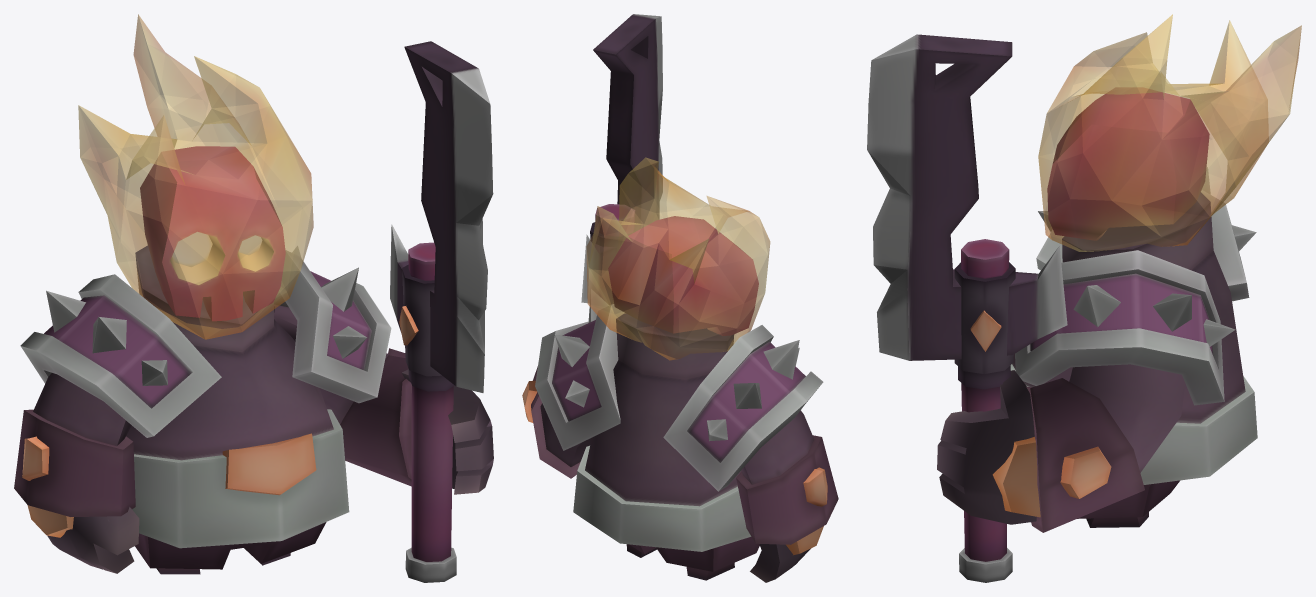
The model's file is Almost a Hero_Enemy.fbx.
The picture shows the model from 3 angles, left to right: view 1: azimuth 30°, elevation 25°; view 2: azimuth 150°, elevation 25°; view 3: azimuth 270°, elevation 25°; orthographic projection. The views are drawn at different scales.
Visible parts, largest first — view 1: Almost_a_Hero_Enemy; view 2: Almost_a_Hero_Enemy; view 3: Almost_a_Hero_Enemy.
Boxes of the visible parts, x1,y1,x2,y2 form: Almost_a_Hero_Enemy: [14, 14, 493, 582]; Almost_a_Hero_Enemy: [522, 14, 838, 582]; Almost_a_Hero_Enemy: [867, 14, 1301, 582].
Size of the model in its own units: 5.6 by 7.01 by 5.21.
2 materials, 2 textured.
